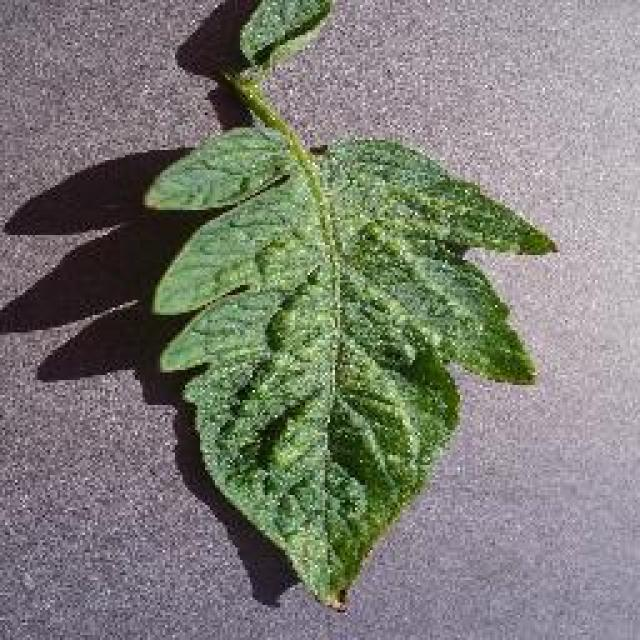Tomato___Spider_mites Two-spotted_spider_mite: (145, 0, 552, 608)
